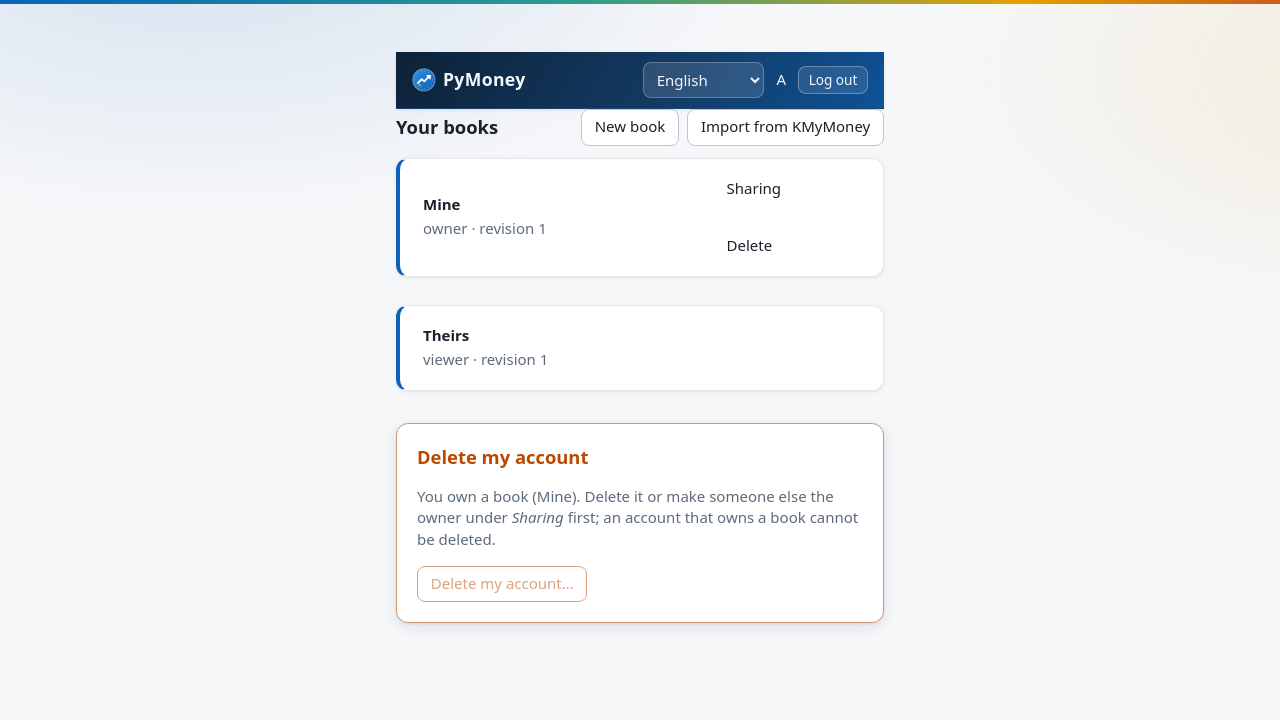
Scenario: translates, formats and remembers
The width and height of the screenshot is (1280, 720).
Check: the heading "Your books" is shown, box [396,114,498,141]
Select "Nederlands" in the dropdown named "Language". click: (704, 80)
box: [643,62,764,98]
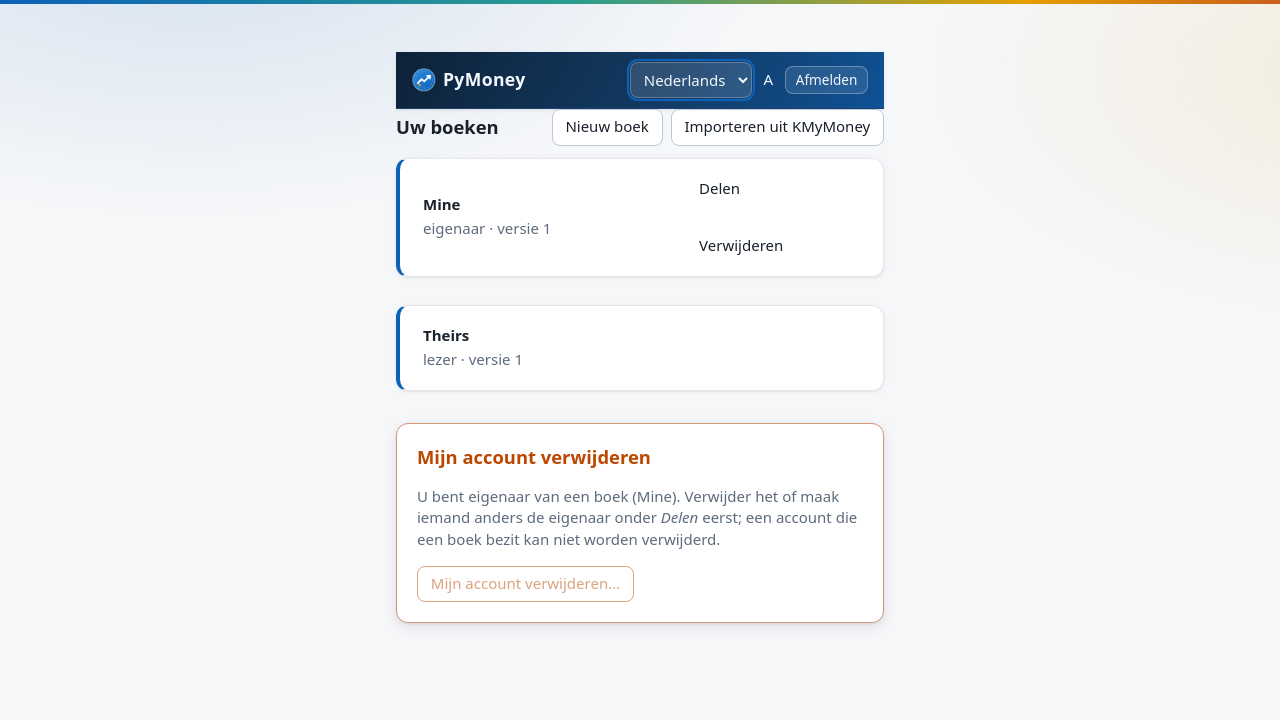
Check: the heading "Uw boeken" is shown, box [396,114,499,141]
Check: the button "Nieuw boek" is shown, box [552,109,663,146]
Check: the heading "Mijn account verwijderen" is shown, box [417,444,651,469]
